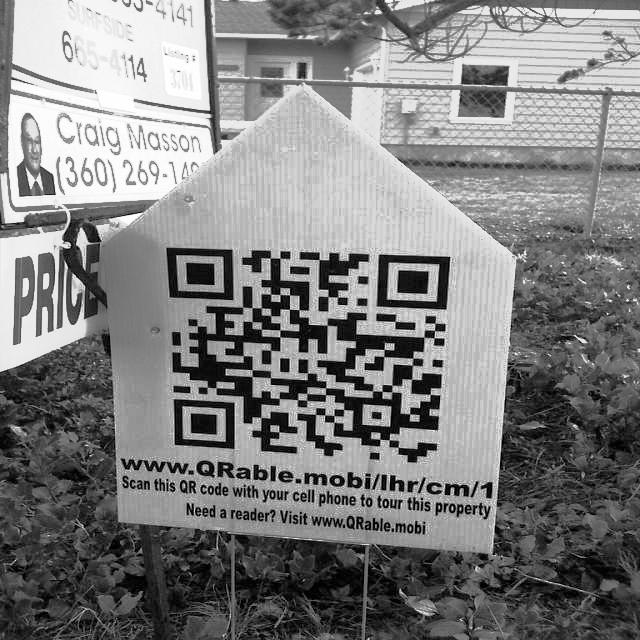qr_code: (167, 248, 449, 463)
